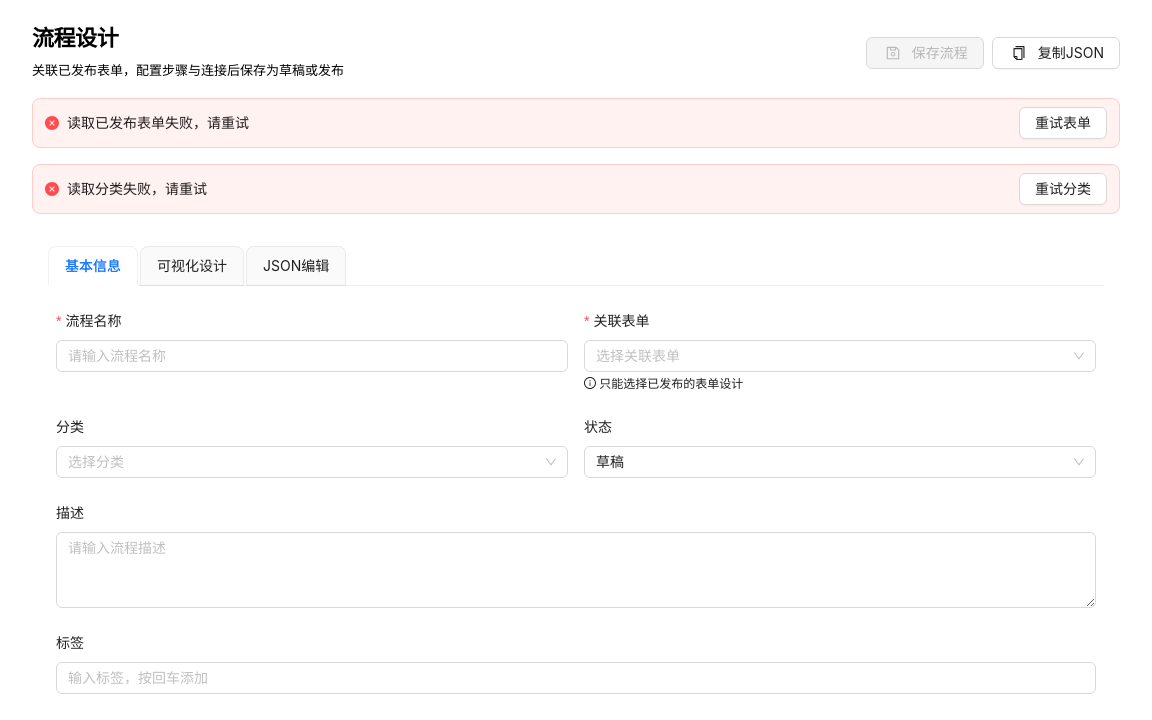
Test: 流程设计真实控件合同 › 加载已发布表单失败可重试，不能伪装空列表
The width and height of the screenshot is (1152, 720).
Click the button "重试表单" at {"x": 1063, "y": 123}, box [1019, 107, 1107, 139]
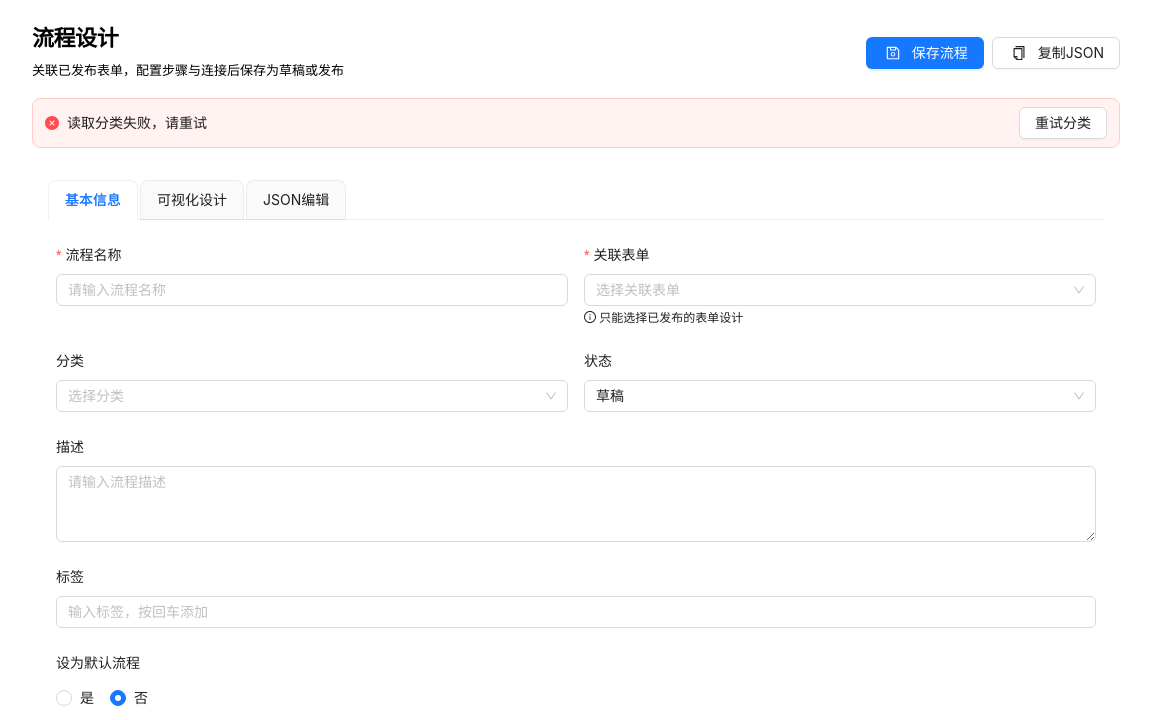
Press the mouse on the element showing "选择关联表单" at {"x": 840, "y": 290}, box [584, 274, 1096, 306]
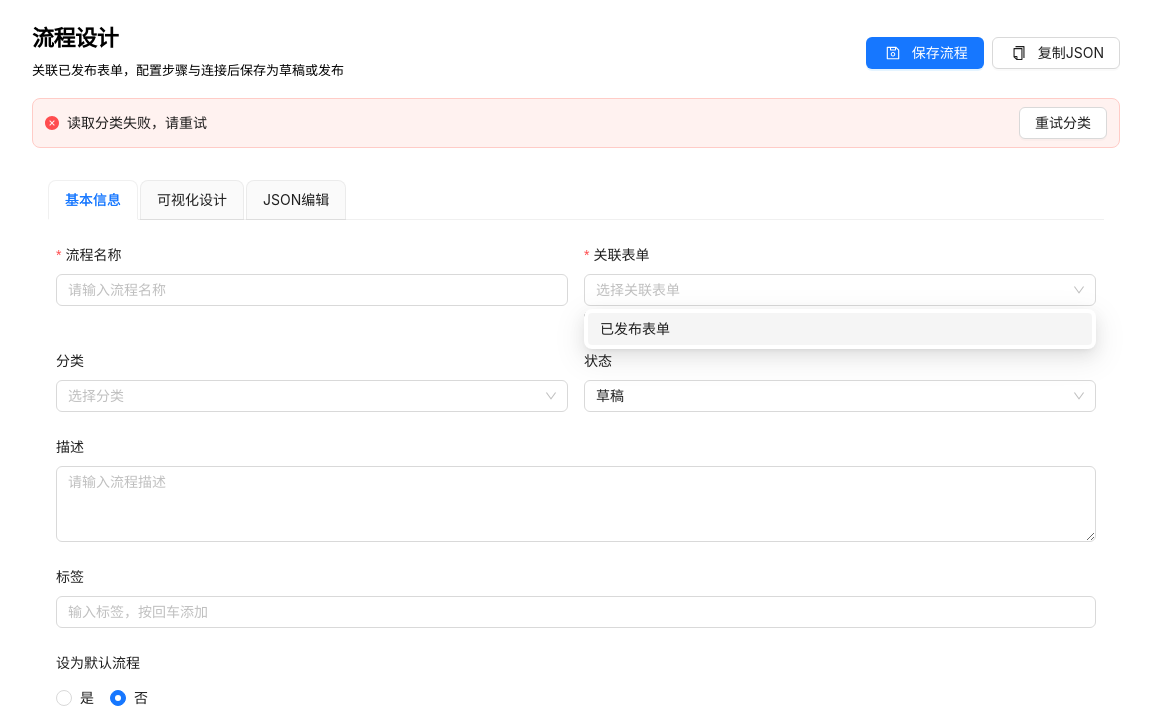
Expected: the element showing "已发布表单" is shown, [584, 309, 1096, 349]
